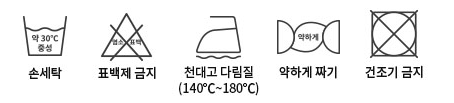KR_gentle_wring: (272, 13, 348, 62)
KR_hand_wash_30_neutral: (22, 12, 71, 63)
KR_no_chlorine_bleach: (98, 9, 156, 64)
KR_no_tumble_dry: (367, 5, 424, 64)
